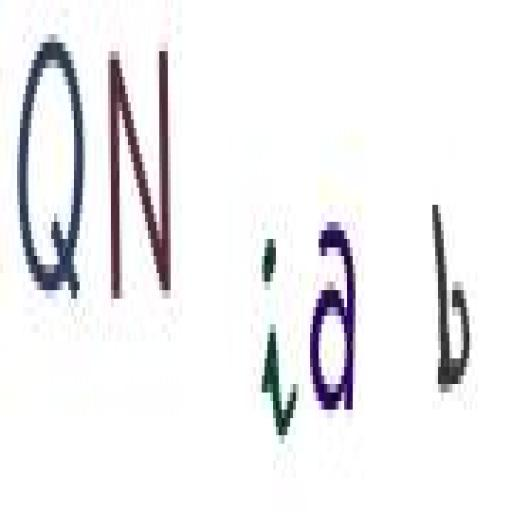N: (104, 30, 176, 322)
Q: (8, 21, 95, 325)
a: (309, 205, 359, 433)
b: (425, 190, 477, 417)
i: (251, 209, 304, 453)
